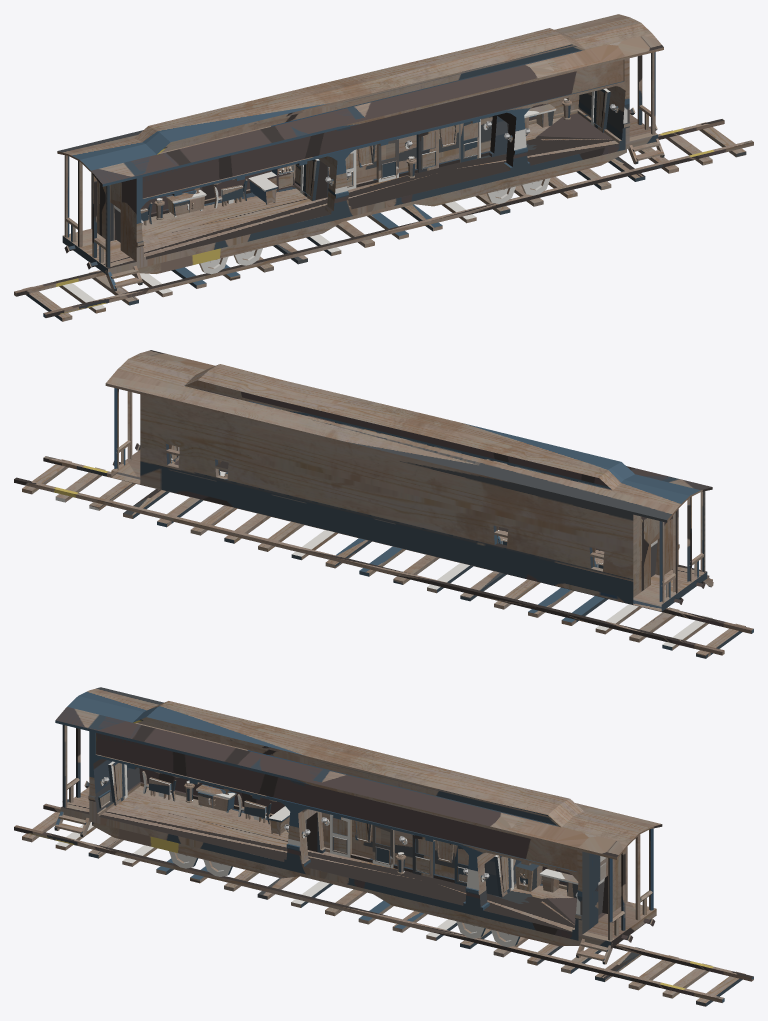
File: Train_steal.obj
3 views of the same model, one above another, from view 1: azimuth 30°, elevation 25°; view 2: azimuth 150°, elevation 25°; view 3: azimuth 330°, elevation 25° (orthographic).
Parts seen in each view (by area): view 1: Ladder, Rails, Wine_Cabinet, Door_5, Door_4, Door_6, Door_8, Door_2, Decoration_Table_2, Concierge_desk; view 2: Ladder, Rails; view 3: Ladder, Rails, Door_4, Door_5, Door_3, Door_1, Concierge_desk, Door_7, Decoration_Table_1, Decoration_Table_2.
Part boxes in pixels (<box>): Ladder: <box>57,14,664,291</box>; Rails: <box>14,119,753,321</box>; Wine_Cabinet: <box>248,164,295,204</box>; Door_5: <box>416,129,438,172</box>; Door_4: <box>376,139,398,182</box>; Door_6: <box>459,119,480,162</box>; Door_8: <box>591,88,610,132</box>; Door_2: <box>300,159,319,200</box>; Decoration_Table_2: <box>213,179,247,208</box>; Concierge_desk: <box>524,104,555,128</box>; Ladder: <box>105,350,713,611</box>; Rails: <box>14,456,753,658</box>; Ladder: <box>54,687,662,964</box>; Rails: <box>14,803,753,1006</box>; Door_4: <box>372,825,394,868</box>; Door_5: <box>412,834,434,877</box>; Door_3: <box>330,814,351,857</box>; Door_1: <box>108,761,127,805</box>; Concierge_desk: <box>539,869,578,898</box>; Door_7: <box>494,855,513,897</box>; Decoration_Table_1: <box>142,771,176,801</box>; Decoration_Table_2: <box>237,794,271,824</box>.
Size of the model in its own units: 31.51 by 6.25 by 4.03.
